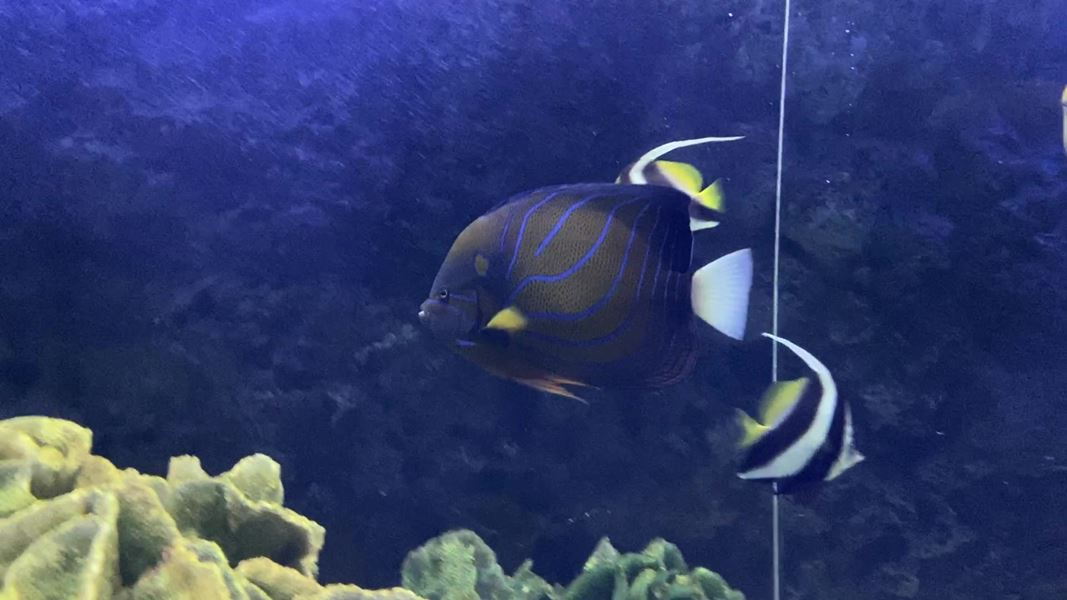Blue ring angelfish: (417, 165, 793, 434)
